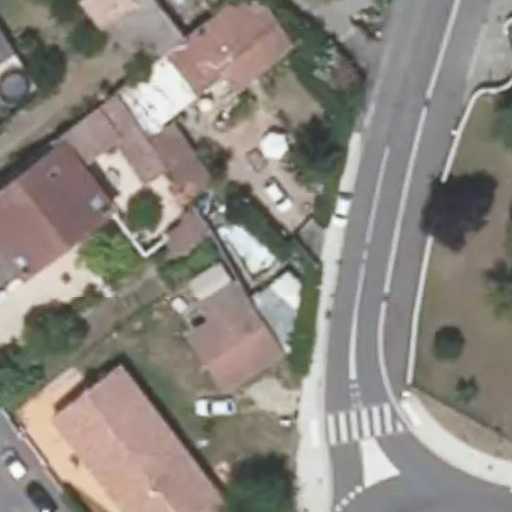pool: (218, 235, 285, 248)
